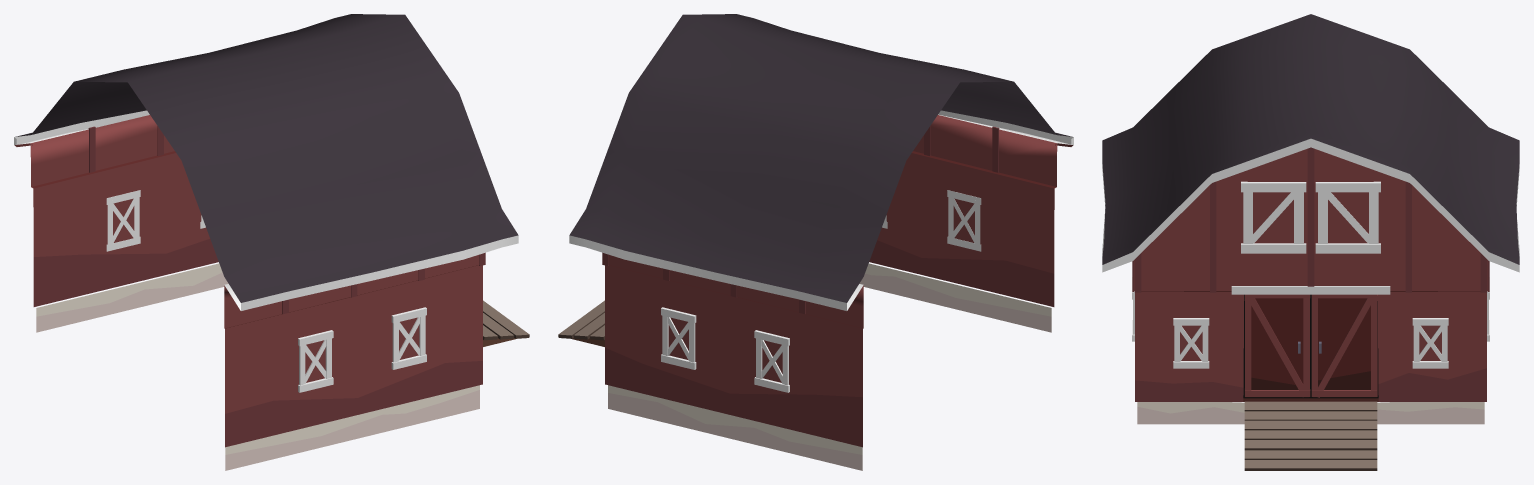
The model's file is Barn.fbx.
3 renders of one model, left to right at view 1: azimuth 30°, elevation 25°; view 2: azimuth 150°, elevation 25°; view 3: azimuth 270°, elevation 25°, orthographic. The views are drawn at different scales.
Parts seen in each view (by area): view 1: Barn; view 2: Barn; view 3: Barn.
Boxes of the visible parts, bbox=[...] form: Barn: bbox=[14, 14, 529, 470]; Barn: bbox=[558, 14, 1073, 470]; Barn: bbox=[1102, 14, 1519, 470].
Bounding box in the file's own units: 598 × 499 × 641.
